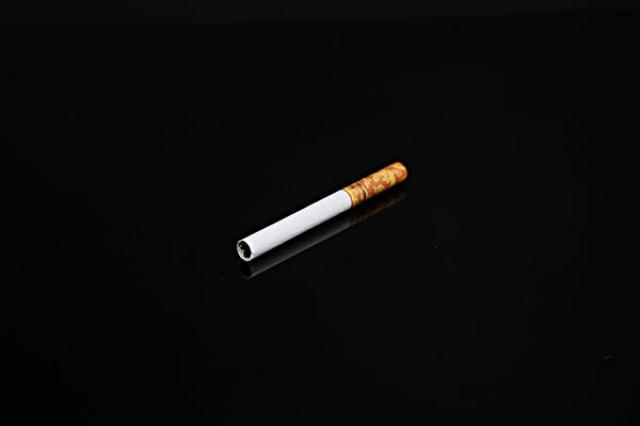Smoking: (236, 163, 408, 263)
